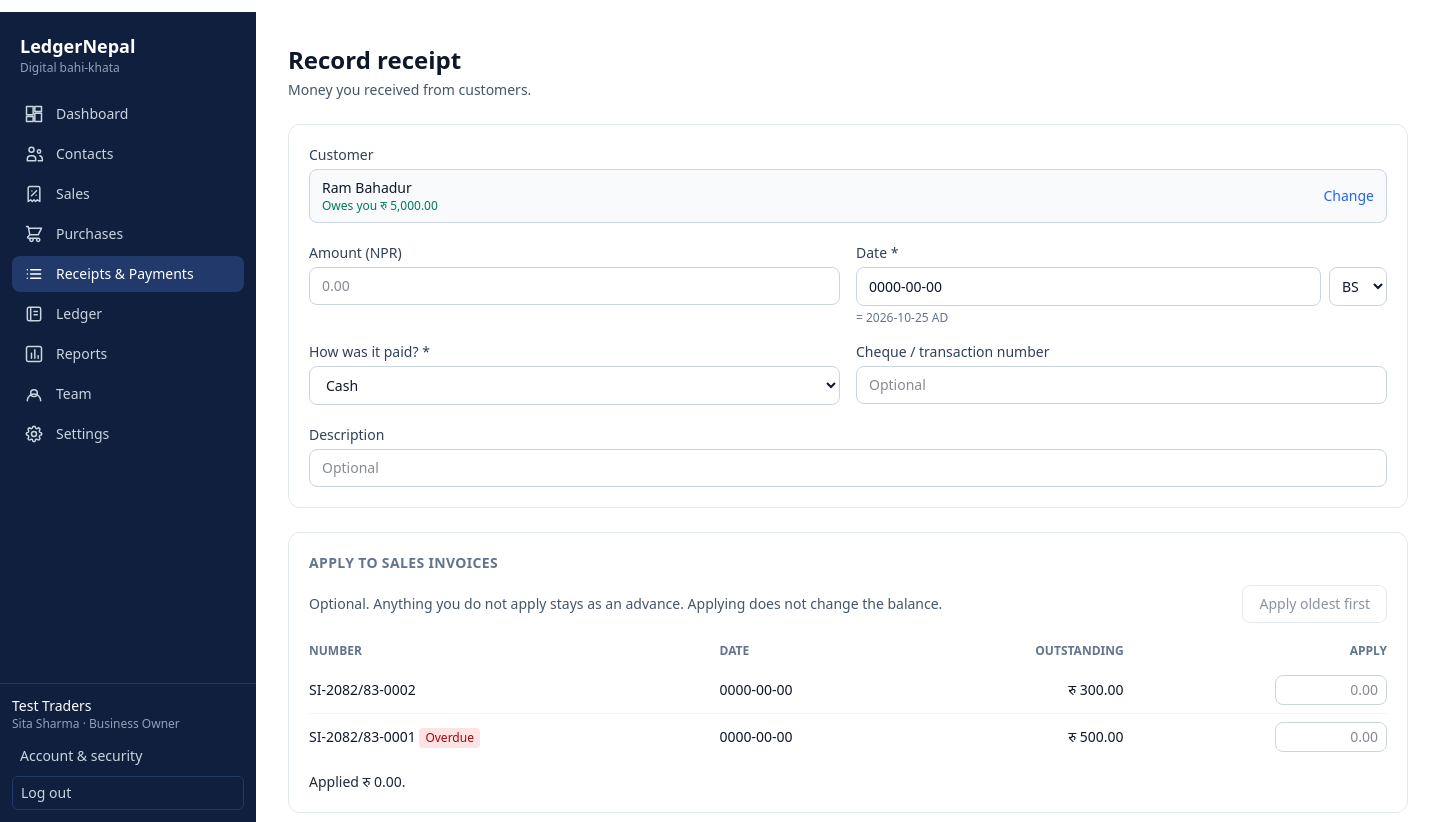
it: recording a receipt › sends only the documents with an amount, then opens the receipt
This screenshot has width=1440, height=822.
Type "400" into the field labelled "Amount (NPR)" at (574, 286), box [309,267,840,305]
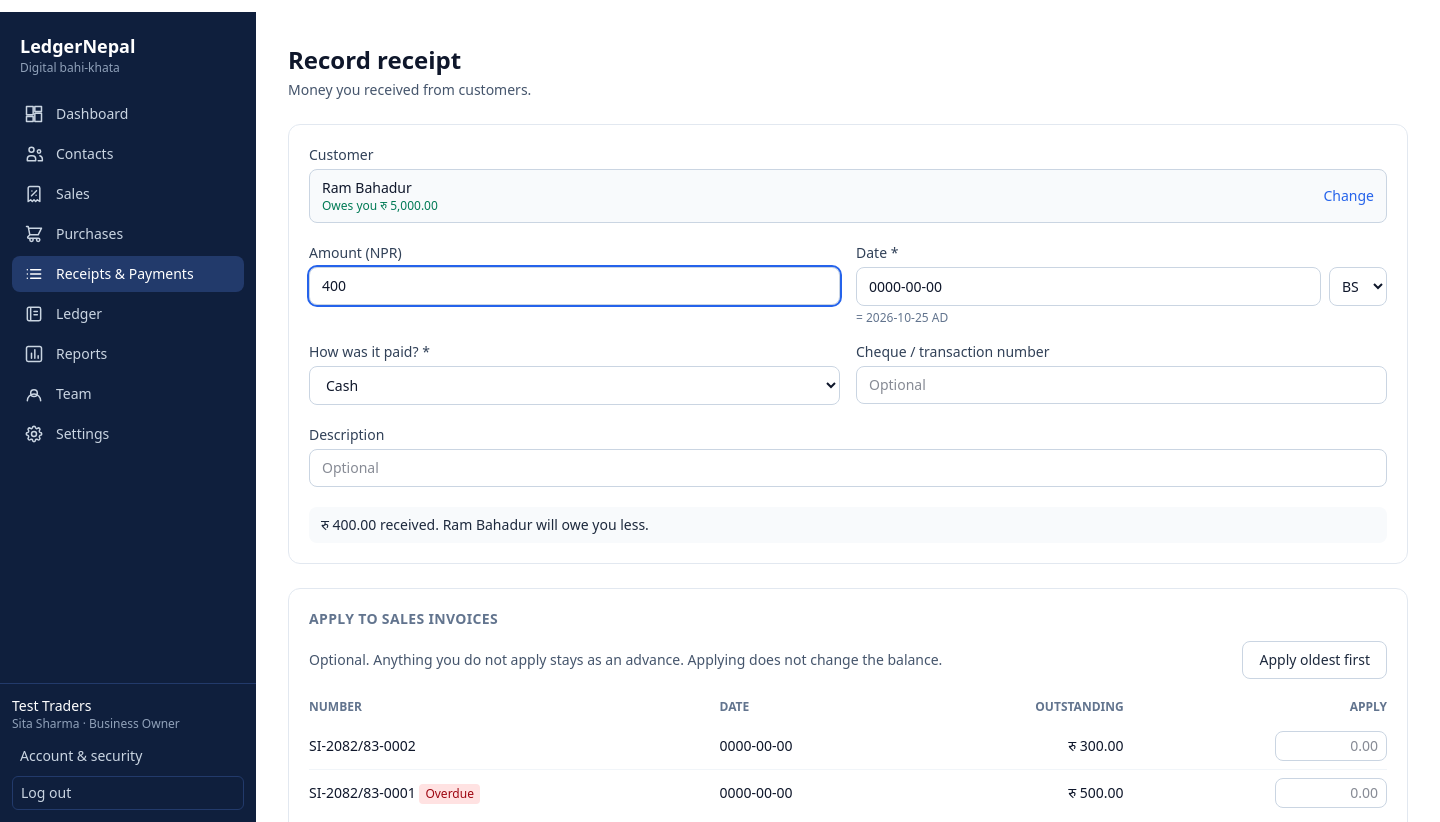
Type "250" into the field named "Apply to SI-2082/83-0001" at (1331, 793), box [1275,778,1387,808]
(page scrolled)
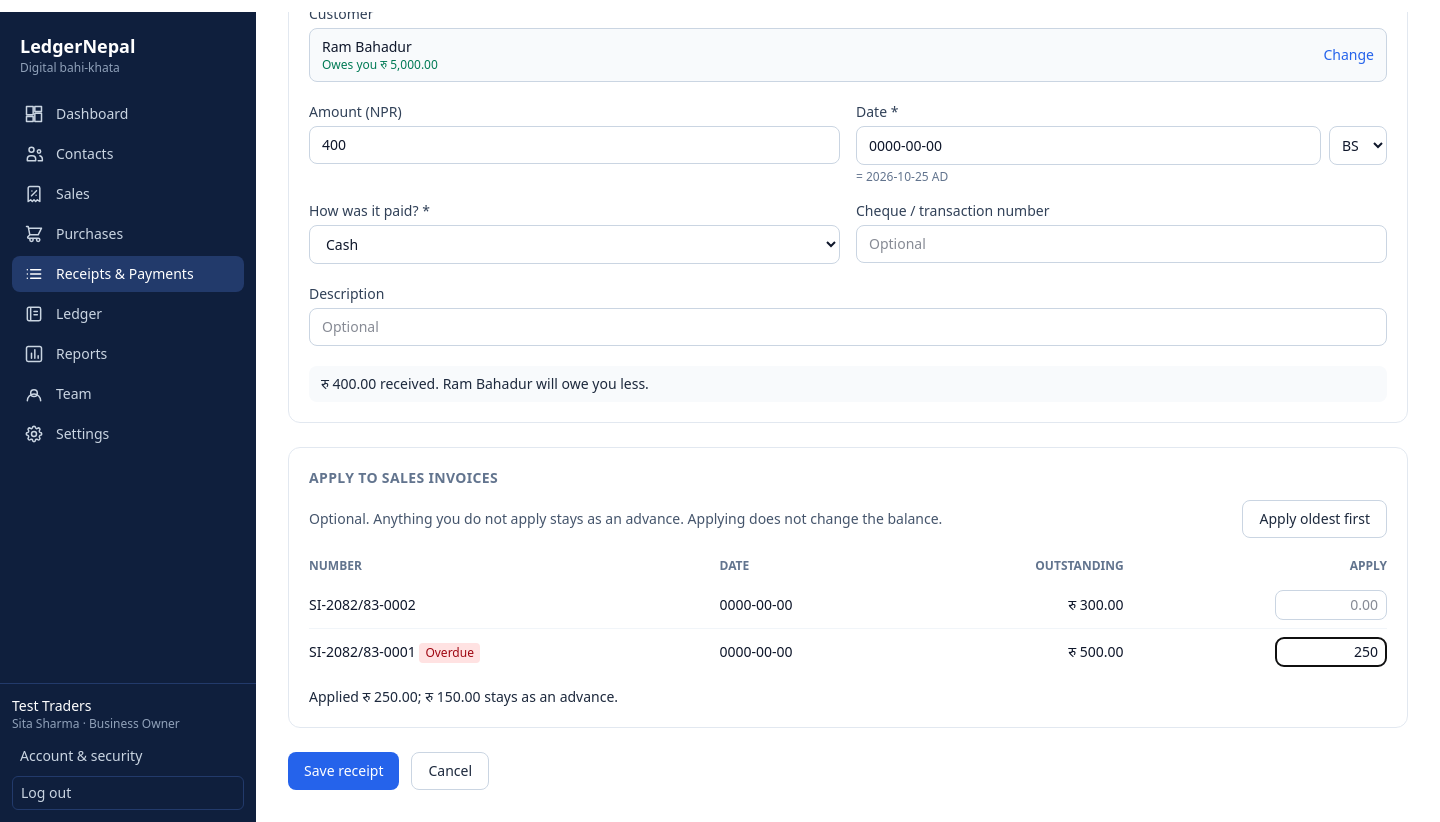
Expected: the text "Applied रु 250.00; रु 150.00 stays as an advance." is shown, [309,687,618,706]
Click the button "Save receipt" at (344, 771), box [288,752,400,790]
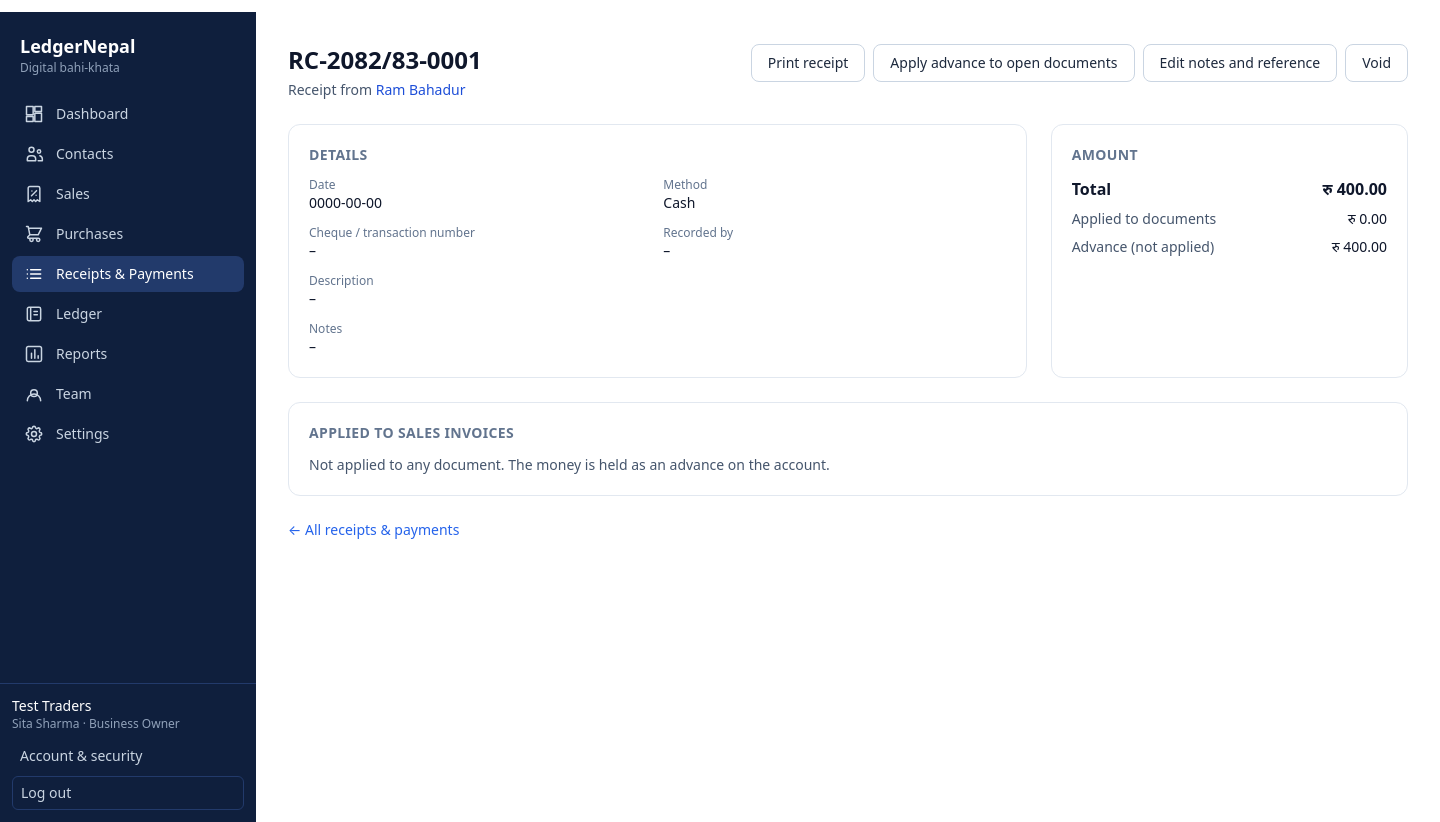
Expected: the text "Advance (not applied)" is shown, [1072,237,1214,257]
